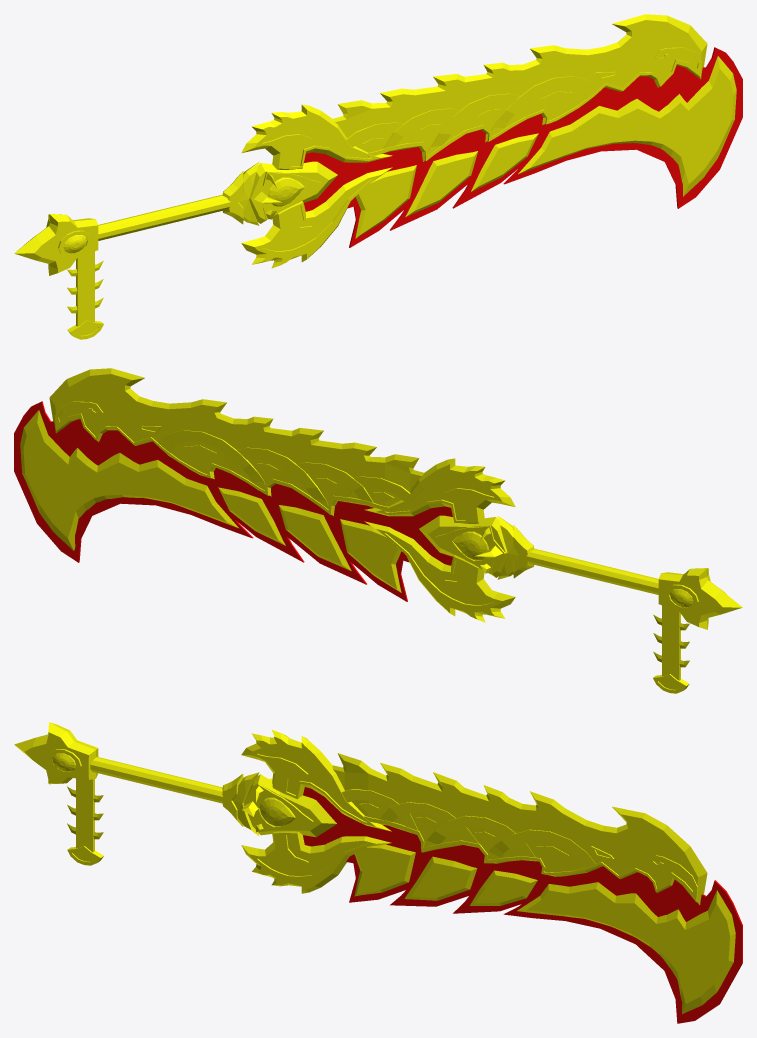
Rendered from Guillermo_Crespo.FBX.
The picture shows the model from 3 angles, top to bottom: view 1: azimuth 30°, elevation 25°; view 2: azimuth 150°, elevation 25°; view 3: azimuth 330°, elevation 25°; orthographic projection.
Parts seen in each view (by area): view 1: G_TSotV_BackBlade; view 2: G_TSotV_BackBlade; view 3: G_TSotV_BackBlade.
Boxes of the visible parts, left/top/right/bottom form: G_TSotV_BackBlade: left=14, top=14, right=742, bottom=339; G_TSotV_BackBlade: left=14, top=368, right=742, bottom=693; G_TSotV_BackBlade: left=14, top=722, right=742, bottom=1023.
Bounding box in the file's own units: 233 × 61.96 × 15.92.
